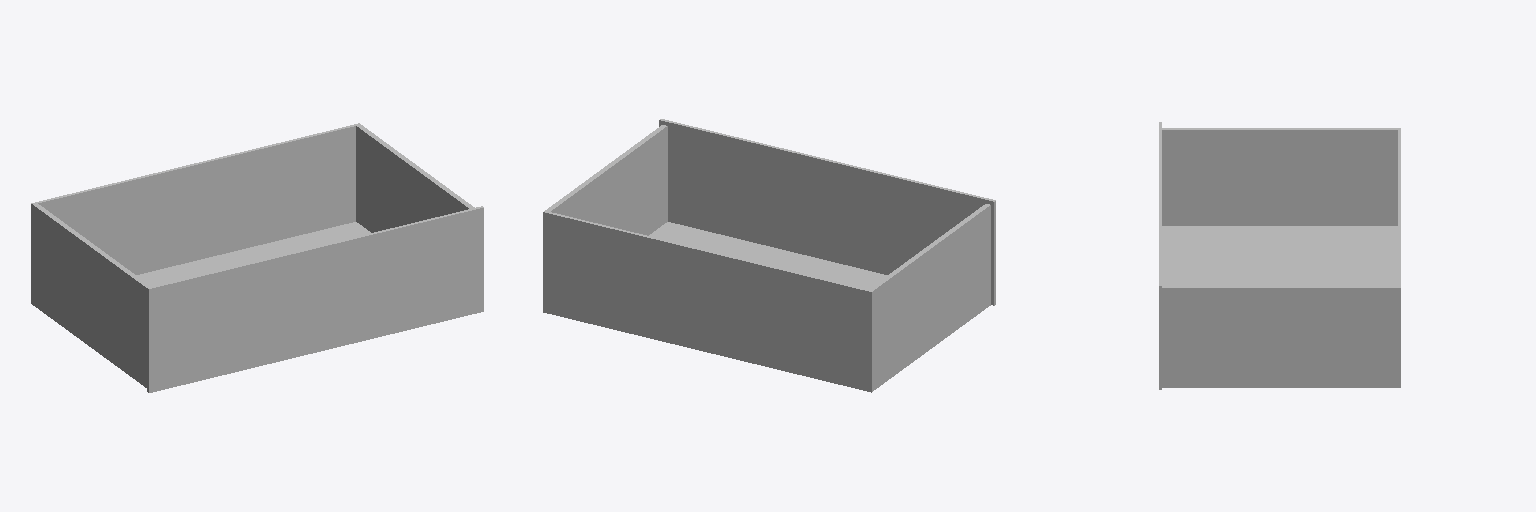
Rendered from cozy2_drawer1.obj.
3 renders of one model, left to right at view 1: azimuth 30°, elevation 25°; view 2: azimuth 150°, elevation 25°; view 3: azimuth 270°, elevation 25°, orthographic.
Visible parts, largest first — view 1: off; view 2: off; view 3: off.
Part boxes in pixels (left/top/right/bottom): off: left=31, top=123, right=483, bottom=392; off: left=543, top=119, right=995, bottom=392; off: left=1159, top=122, right=1400, bottom=389.
Bounding box in the file's own units: 0.7653 × 0.2273 × 0.48.